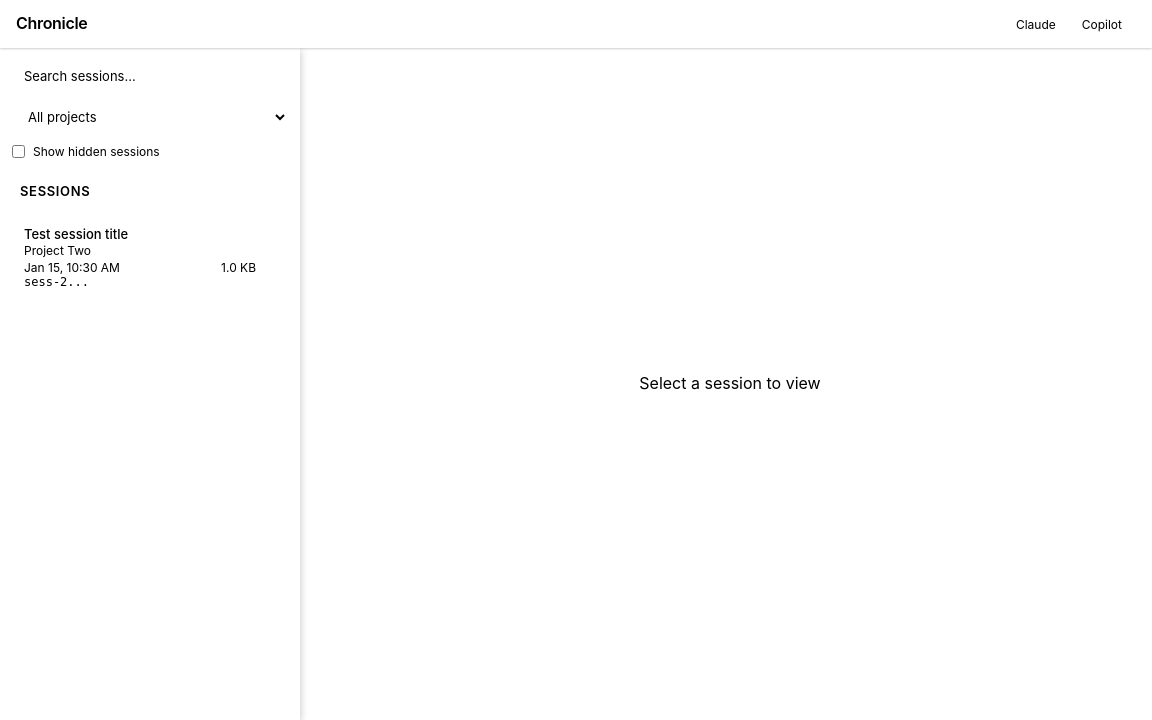
Test: App › shows error state for selected session
Click the text "Project Two": (58, 250) [24, 243, 91, 258]
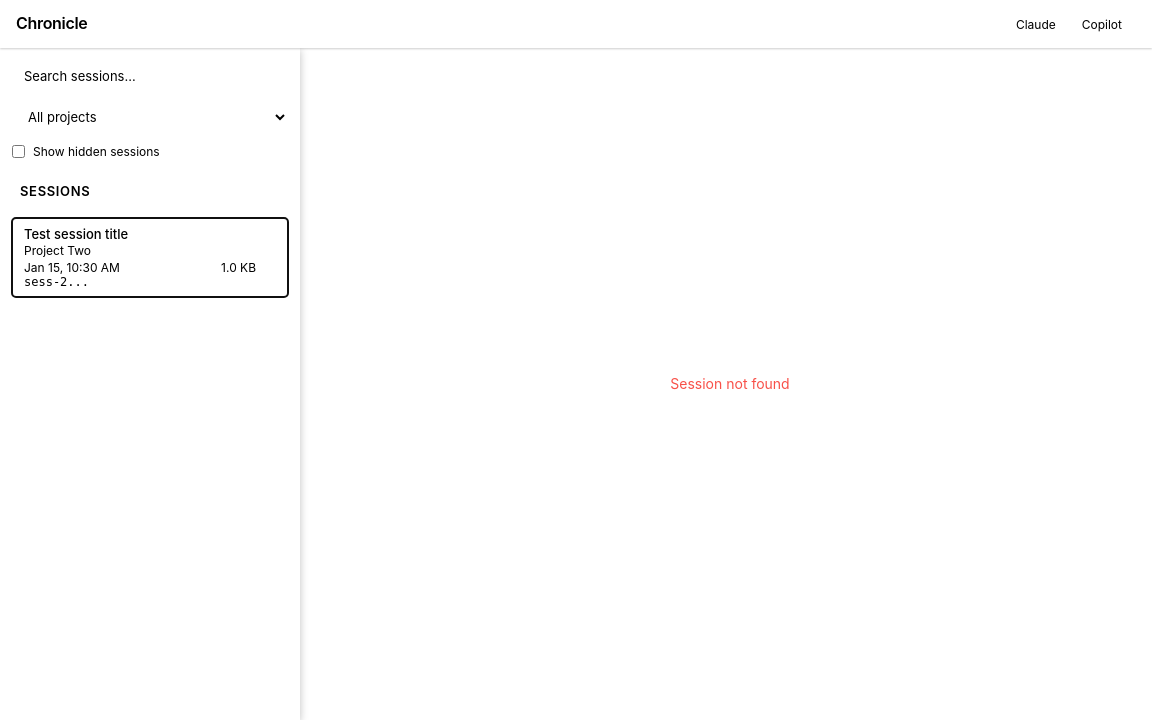
Check: the text "Session not found" is shown, box [670, 375, 790, 392]
